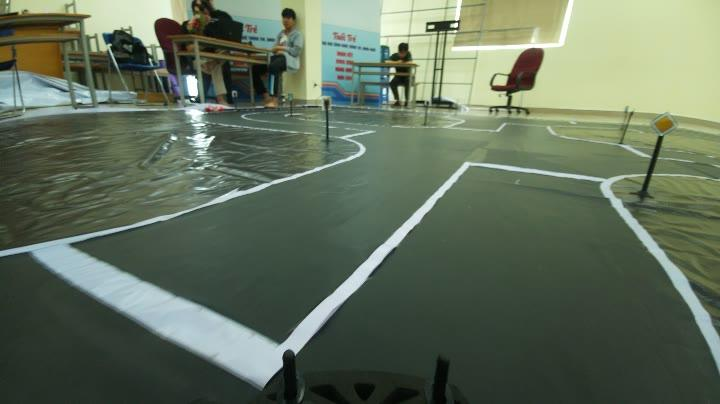priority: (644, 108, 681, 138)
